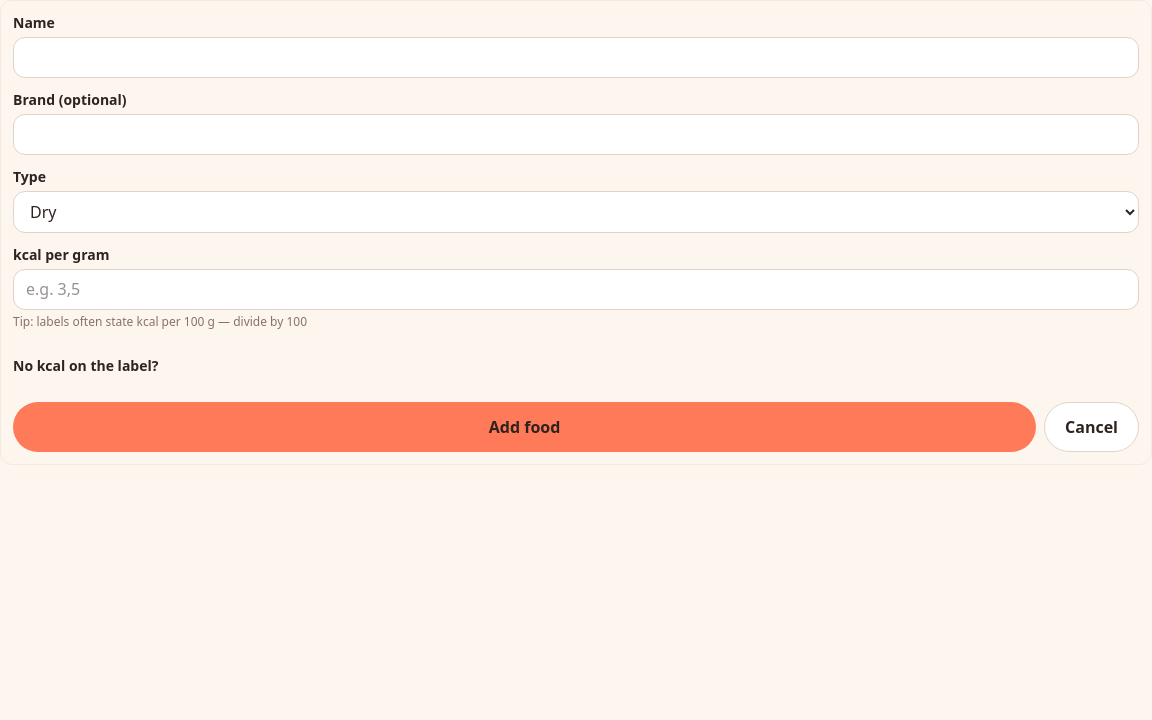
it: FoodForm › rejects an out-of-range kcal per gram
Type "Rocket Fuel" into the field with test id "food-name" at (576, 57), box [13,37,1139,78]
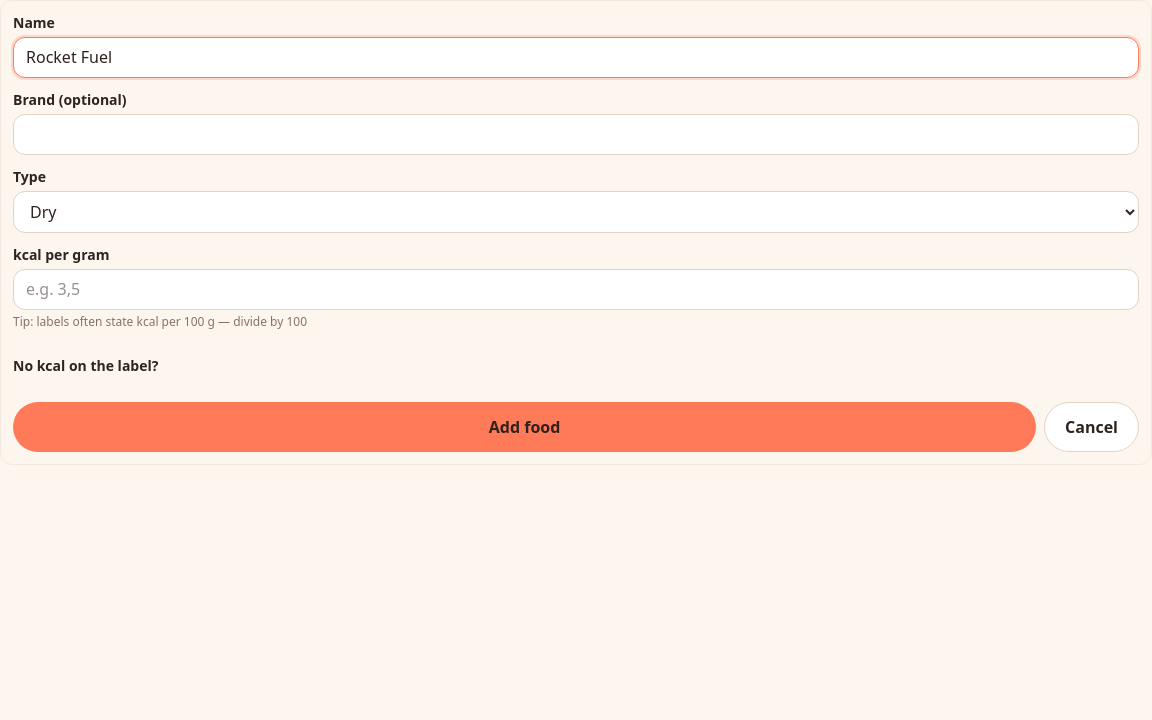
Type "12" into the field with test id "food-kcal-per-gram" at (576, 289), box [13,269,1139,310]
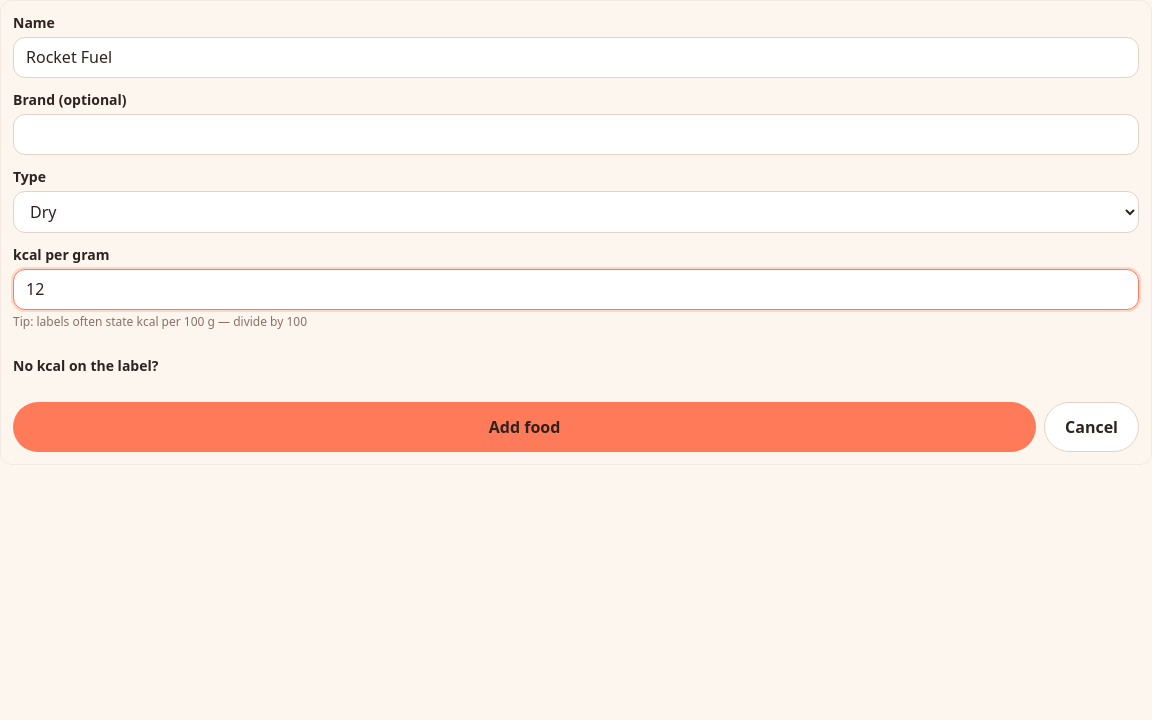
Click the button with test id "food-save" at (525, 426), box [13,402,1036,452]
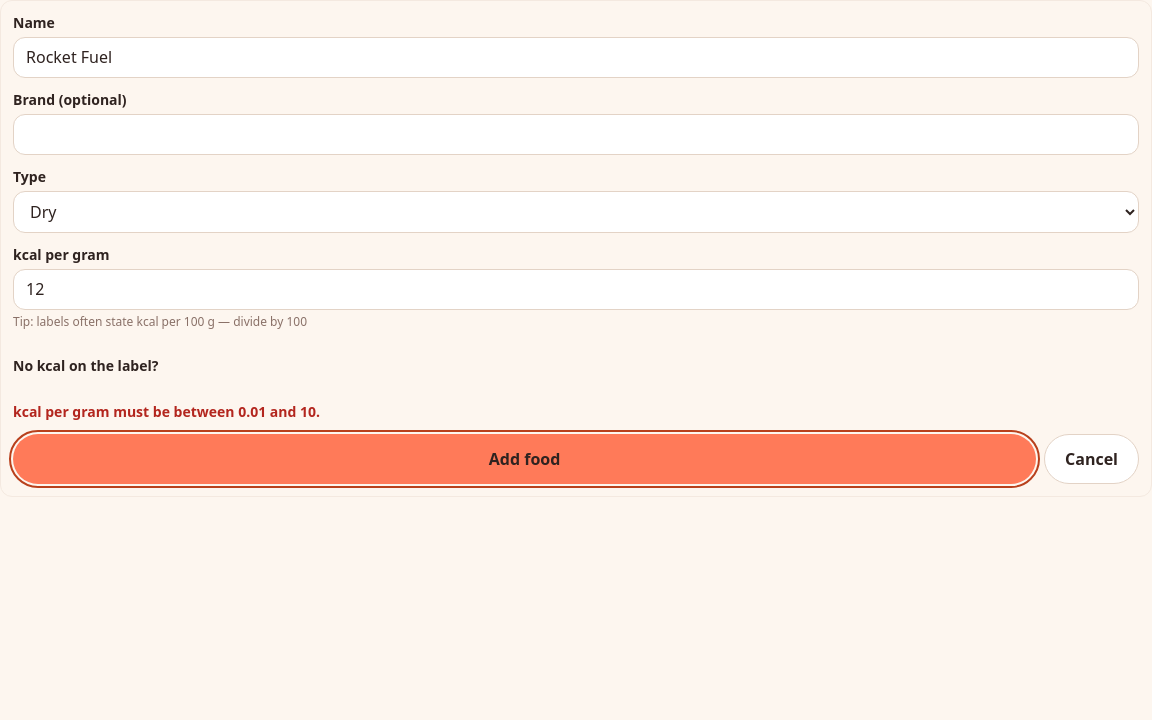
Result: the message reads "kcal per gram must be between 0.01 and 10." at [13,402,320,420]
